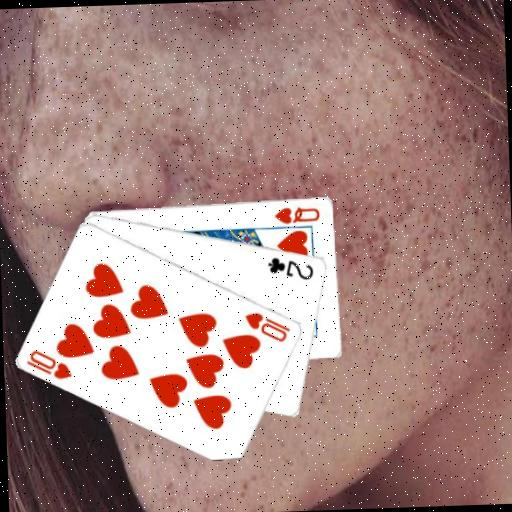10H: (23, 345, 74, 382), (242, 307, 292, 344)
2C: (265, 252, 316, 282)
QH: (271, 202, 322, 225)
